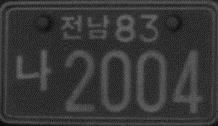0: (136, 48, 169, 113), (101, 49, 131, 112)
2: (62, 49, 97, 114)
3: (138, 13, 159, 43)
4: (170, 48, 205, 113)
8: (114, 13, 136, 42)
나: (15, 48, 51, 92)
전남_O: (59, 13, 110, 41)
